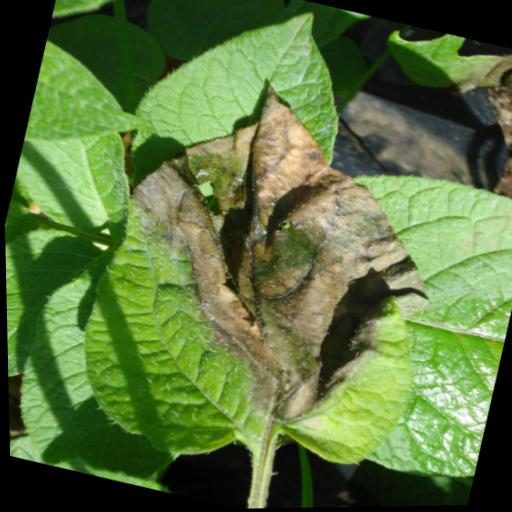Early Blight: (46, 58, 478, 508)
